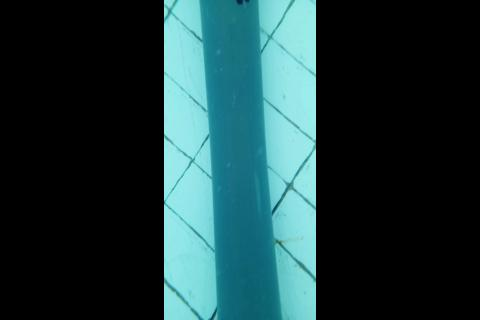kebocoran: (235, 0, 250, 7)
